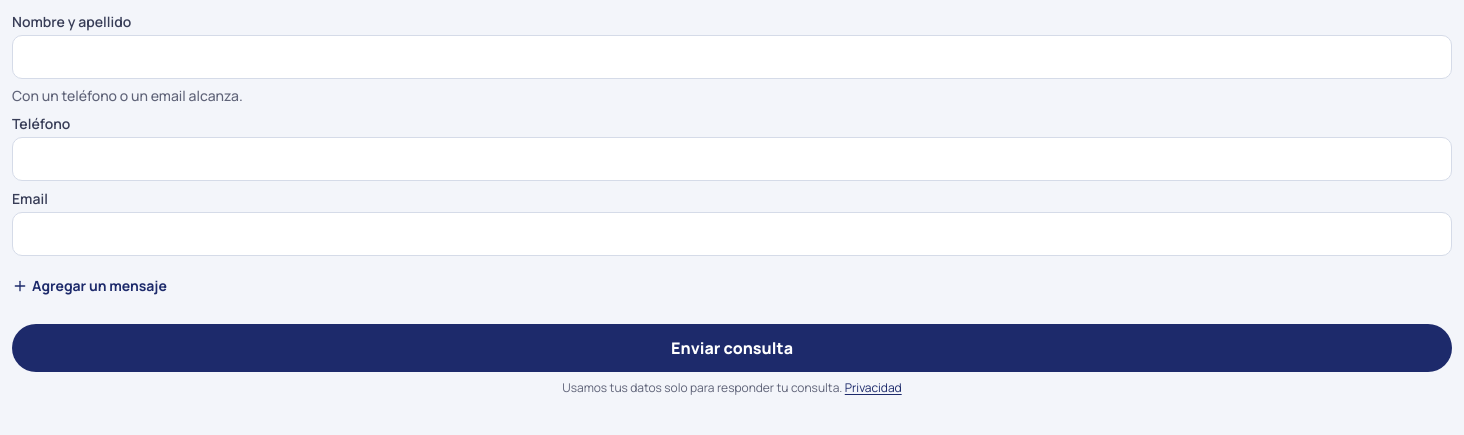
it: PropertyInquiryForm › shows errors next to the fields and keeps what was typed
Type "Ana" into the field labelled "Nombre y apellido" at (732, 57), box [12, 35, 1452, 79]
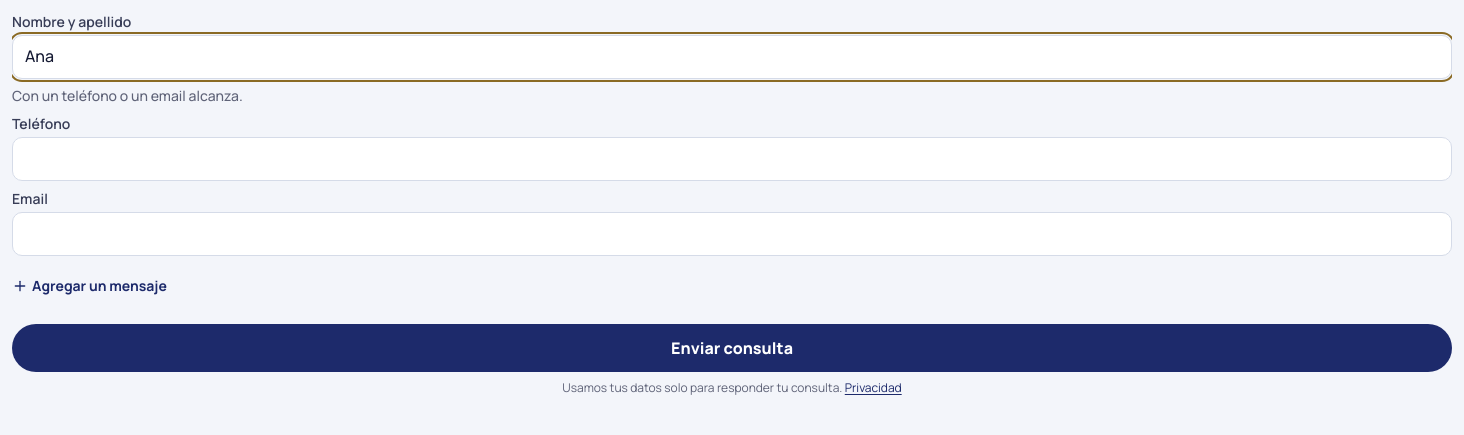
Click the button "Enviar consulta" at (732, 348), box [12, 324, 1452, 372]
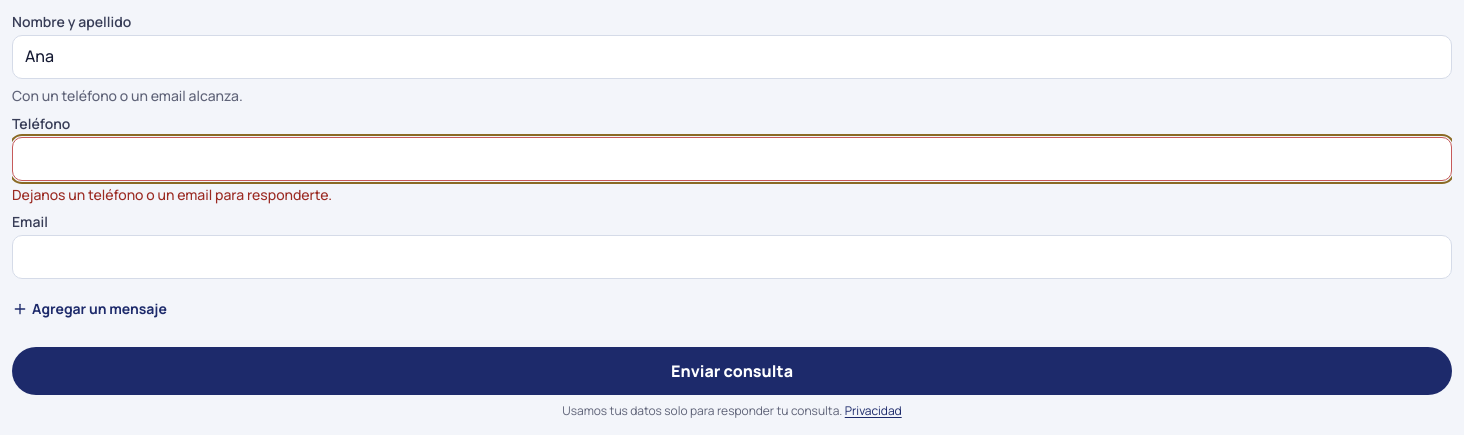
expect the field labelled "Nombre y apellido" holds "Ana": met, box [12, 35, 1452, 79]
expect the text "Dejanos un teléfono o un email para responderte." is shown: met, box [12, 185, 332, 204]
